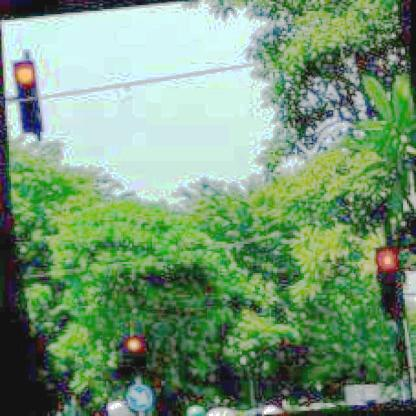Traffic Light -Red-: (6, 56, 45, 134), (368, 243, 406, 321)
